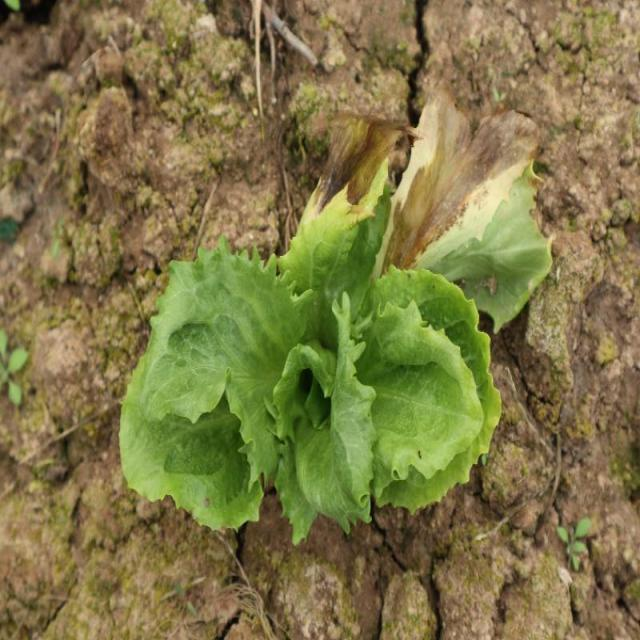crop: (118, 159, 553, 544)
